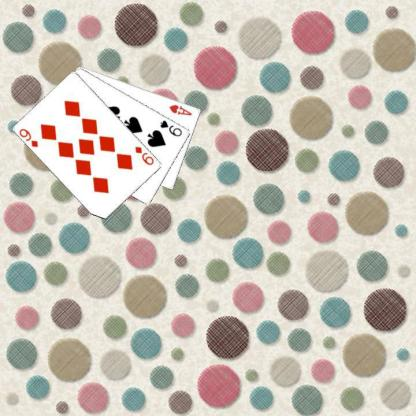9D: (133, 144, 155, 166), (17, 126, 39, 148)
9S: (158, 118, 183, 138)
AH: (166, 102, 193, 116)
